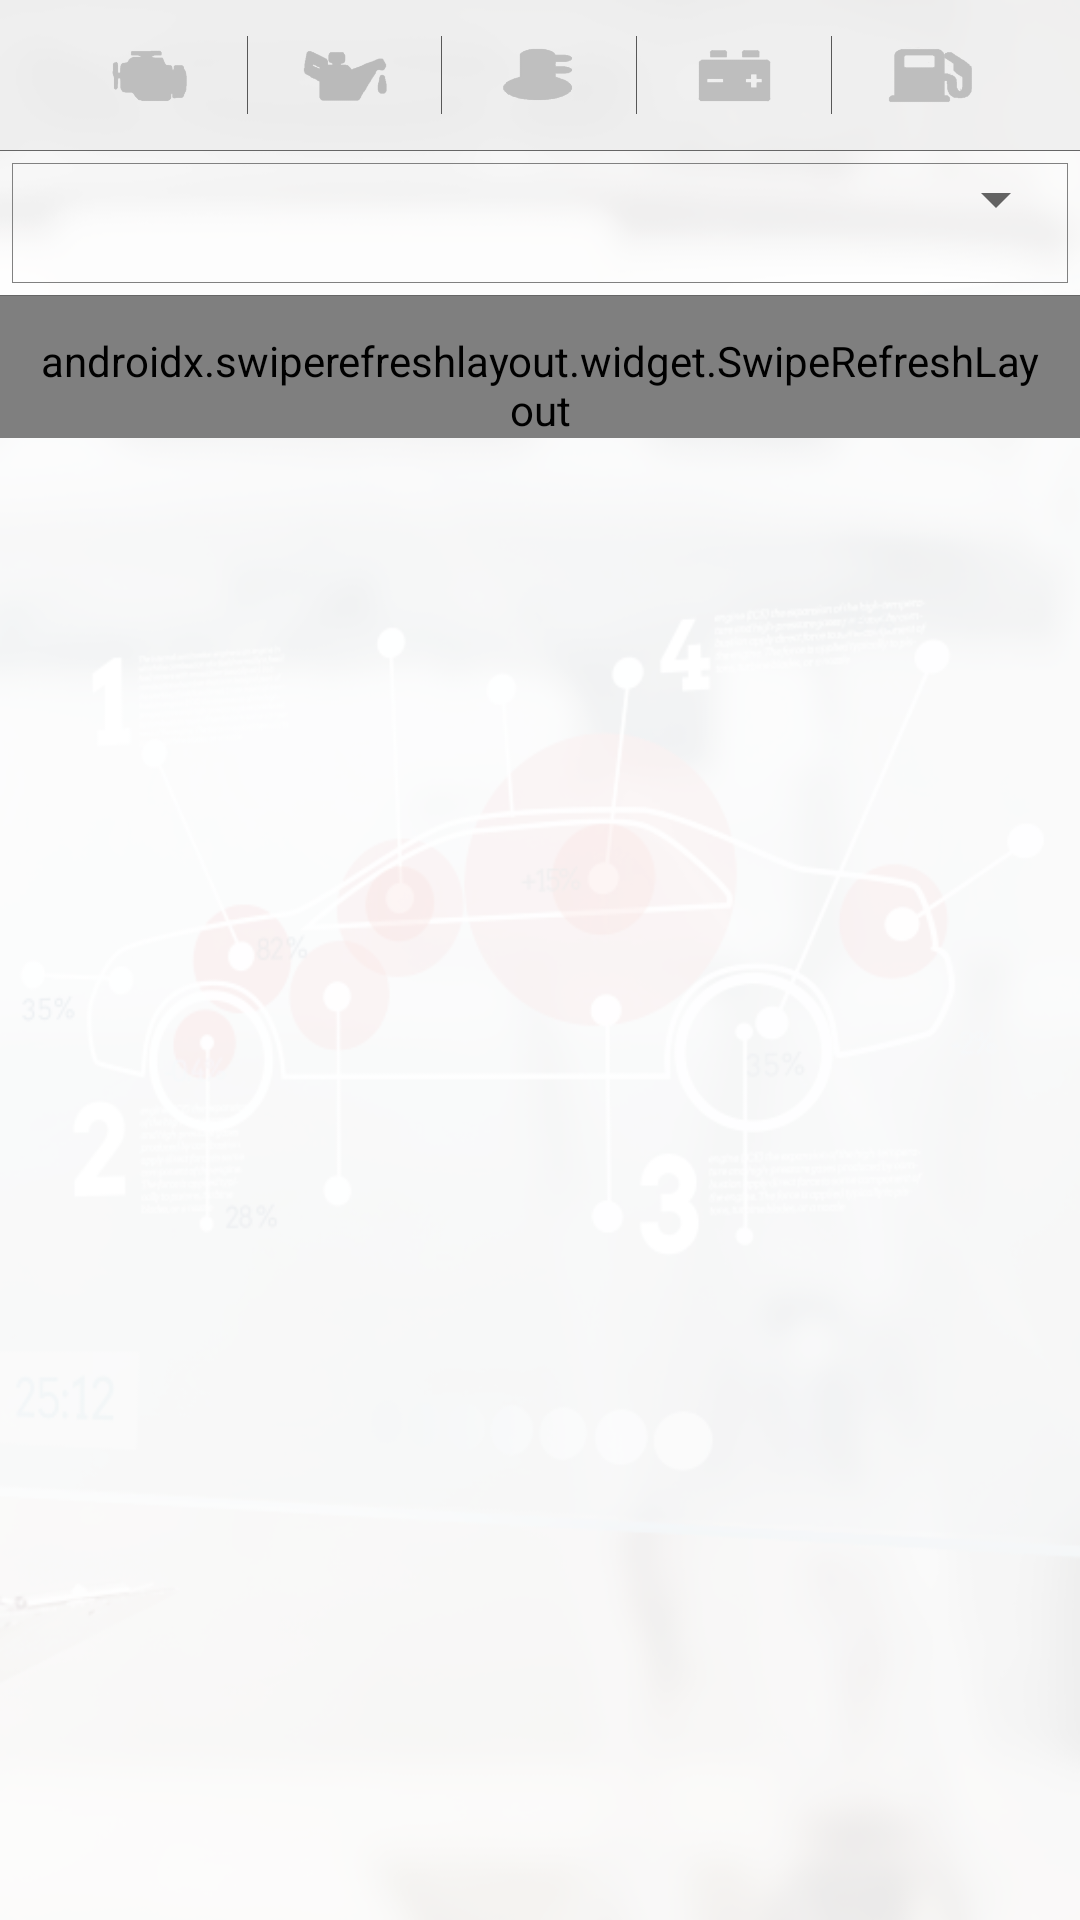

Icons on this 1080w x 1920h Android screen, each with the point to tap as point (x, y):
batteryok: point (734, 75)
checkengineok: point (150, 76)
gastankok: point (930, 75)
